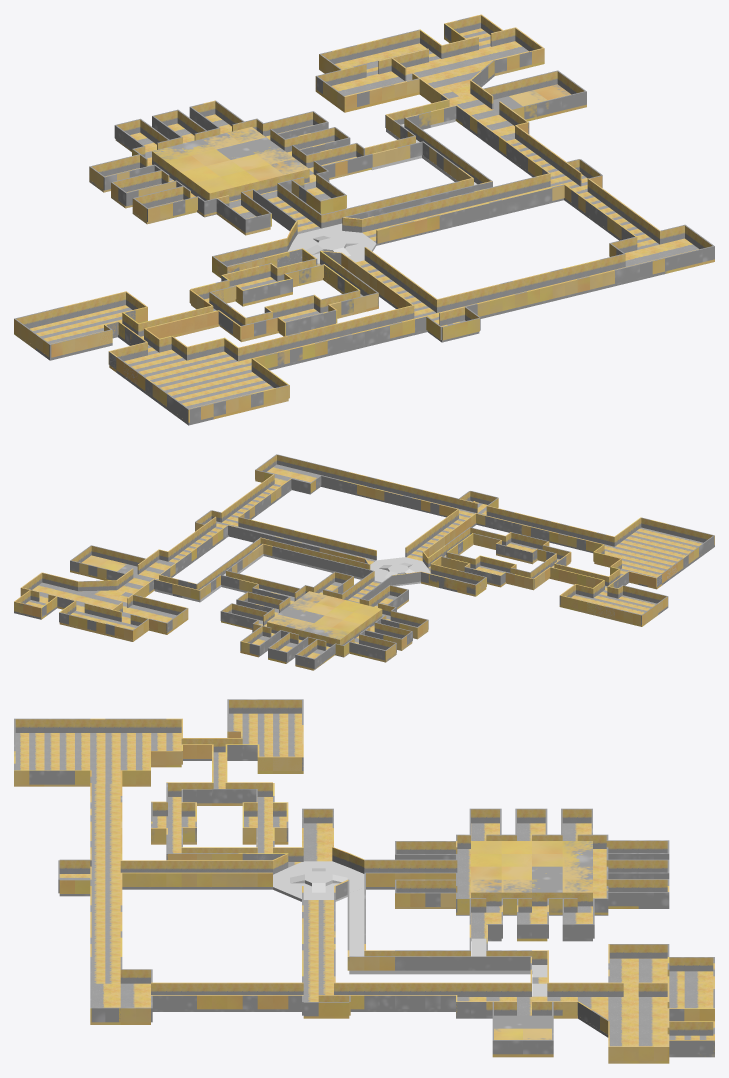
Rendered from Revised map blockoutV6.3.fbx.
3 views of the same model, one above another, from view 1: azimuth 30°, elevation 25°; view 2: azimuth 150°, elevation 25°; view 3: azimuth 270°, elevation 25° (orthographic). The views are drawn at different scales.
Parts seen in each view (by area): view 1: Living quarters walls, Office Walls, Pathway Down Walls, Office Floor, Walls.019, Living quarters Room.008, Walls.003, Pathway Down, Pathway Down.001, Pathway Down Walls.001, Pathway Down Walls.002, Walls (+9 smaller); view 2: Living quarters walls, Office Walls, Pathway Down Walls, Office Floor, Walls.019, Walls.003, Living quarters Room.008, Pathway Down, Pathway Down Walls.001, Pathway Down.001, Pathway Down Walls.002, Walls (+10 smaller); view 3: Living quarters walls, Office Walls, Office Floor, Walls.003, Pathway Down, Pathway Down Walls, Pathway Down.001, Living quarters Room.008, Living quarters Room.006, Pathway Up walls, Center Platform, Living quarters Room.005 (+9 smaller).
Boxes of the visible parts, bbox=[...] form: Living quarters walls: bbox=[89, 100, 364, 232]; Office Walls: bbox=[315, 14, 544, 144]; Pathway Down Walls: bbox=[251, 247, 614, 371]; Office Floor: bbox=[315, 41, 544, 146]; Walls.019: bbox=[361, 173, 564, 243]; Living quarters Room.008: bbox=[152, 139, 259, 201]; Walls.003: bbox=[491, 125, 660, 250]; Pathway Down: bbox=[238, 197, 639, 371]; Pathway Down.001: bbox=[362, 139, 659, 249]; Pathway Down Walls.001: bbox=[237, 305, 412, 361]; Pathway Down Walls.002: bbox=[437, 259, 600, 312]; Walls: bbox=[600, 225, 714, 283]; Living quarters walls: bbox=[220, 571, 428, 668]; Office Walls: bbox=[14, 549, 188, 639]; Pathway Down Walls: bbox=[349, 472, 615, 557]; Office Floor: bbox=[32, 559, 188, 641]; Walls.019: bbox=[228, 517, 376, 562]; Walls.003: bbox=[168, 474, 291, 565]; Living quarters Room.008: bbox=[303, 600, 382, 646]; Pathway Down: bbox=[321, 477, 614, 603]; Pathway Down Walls.001: bbox=[476, 513, 604, 553]; Pathway Down.001: bbox=[169, 484, 375, 566]; Pathway Down Walls.002: bbox=[338, 480, 457, 516]; Walls: bbox=[256, 454, 349, 489]; Living quarters walls: bbox=[395, 808, 669, 938]; Office Walls: bbox=[456, 944, 714, 1060]; Office Floor: bbox=[456, 958, 713, 1063]; Walls.003: bbox=[151, 982, 455, 1009]; Pathway Down: bbox=[91, 784, 394, 983]; Pathway Down Walls: bbox=[90, 770, 272, 956]; Pathway Down.001: bbox=[152, 900, 455, 1011]; Living quarters Room.008: bbox=[471, 841, 592, 866]; Living quarters Room.006: bbox=[471, 879, 592, 906]; Pathway Up walls: bbox=[364, 859, 455, 886]; Center Platform: bbox=[273, 861, 364, 901]; Living quarters Room.005: bbox=[471, 866, 592, 879].
Bounding box in the file's own units: 54002 × 1264 × 46002.
